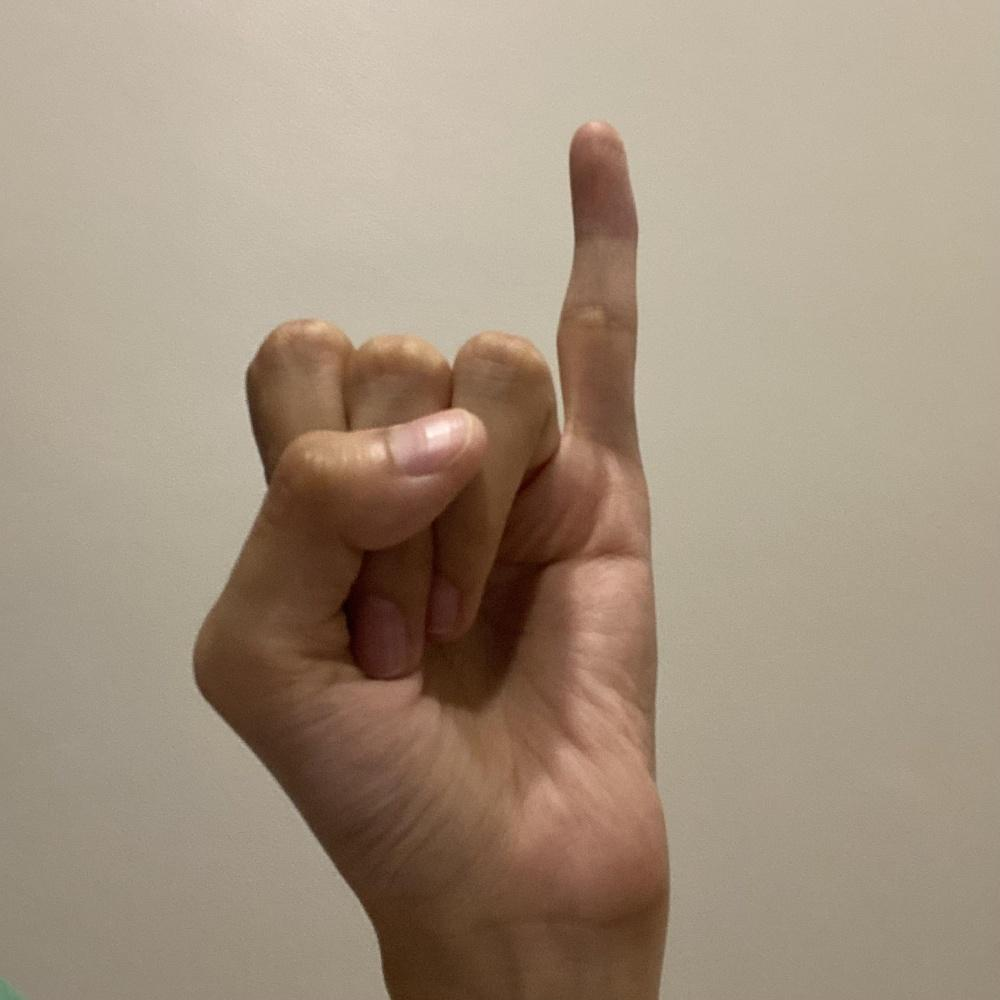i: (180, 107, 673, 924)
